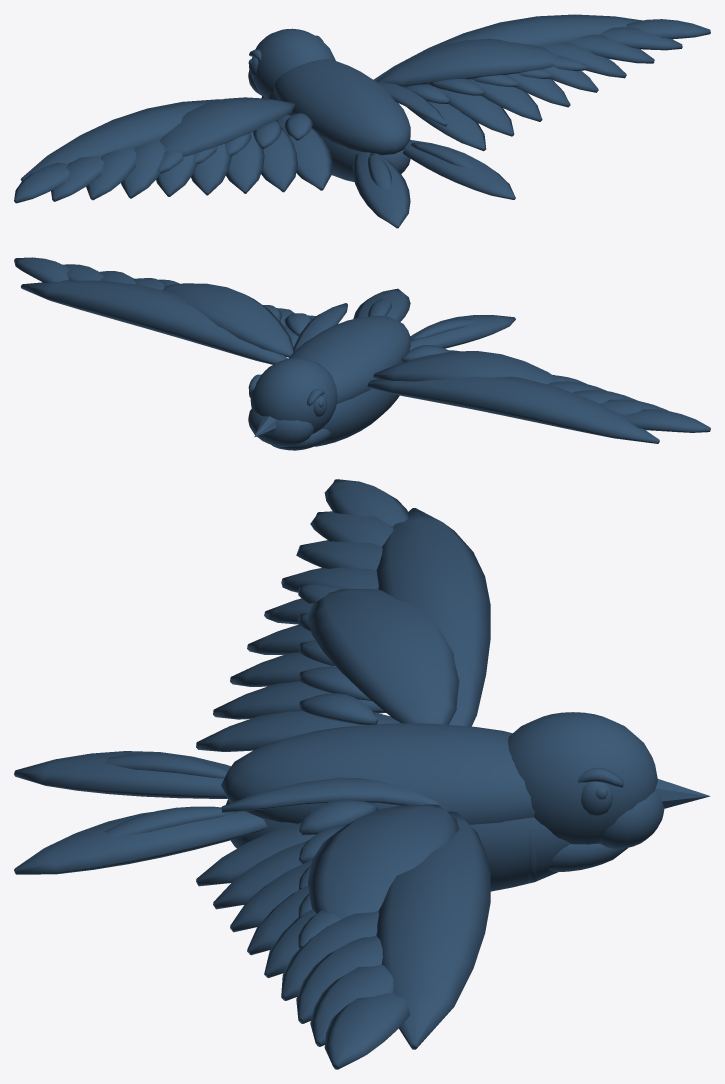
Rendered from bird.glb.
3 renders of one model, top to bottom at view 1: azimuth 30°, elevation 25°; view 2: azimuth 150°, elevation 25°; view 3: azimuth 270°, elevation 25°, orthographic. The views are drawn at different scales.
Parts seen in each view (by area): view 1: Wing_L_Outline, Wing_R_Outline, Bird_Outline; view 2: Bird_Outline, Wing_L_Outline, Wing_R_Outline; view 3: Bird_Outline, Wing_R_Outline, Wing_L_Outline.
Boxes of the visible parts, x1,y1,x2,y2 form: Wing_L_Outline: [14, 97, 332, 203]; Wing_R_Outline: [373, 14, 710, 151]; Bird_Outline: [248, 28, 515, 228]; Bird_Outline: [248, 288, 515, 450]; Wing_L_Outline: [367, 345, 710, 443]; Wing_R_Outline: [14, 257, 316, 364]; Bird_Outline: [14, 712, 710, 891]; Wing_R_Outline: [196, 799, 490, 1069]; Wing_L_Outline: [196, 479, 490, 751].
Bounding box in the file's own units: 5.76 × 0.778 × 2.9.
